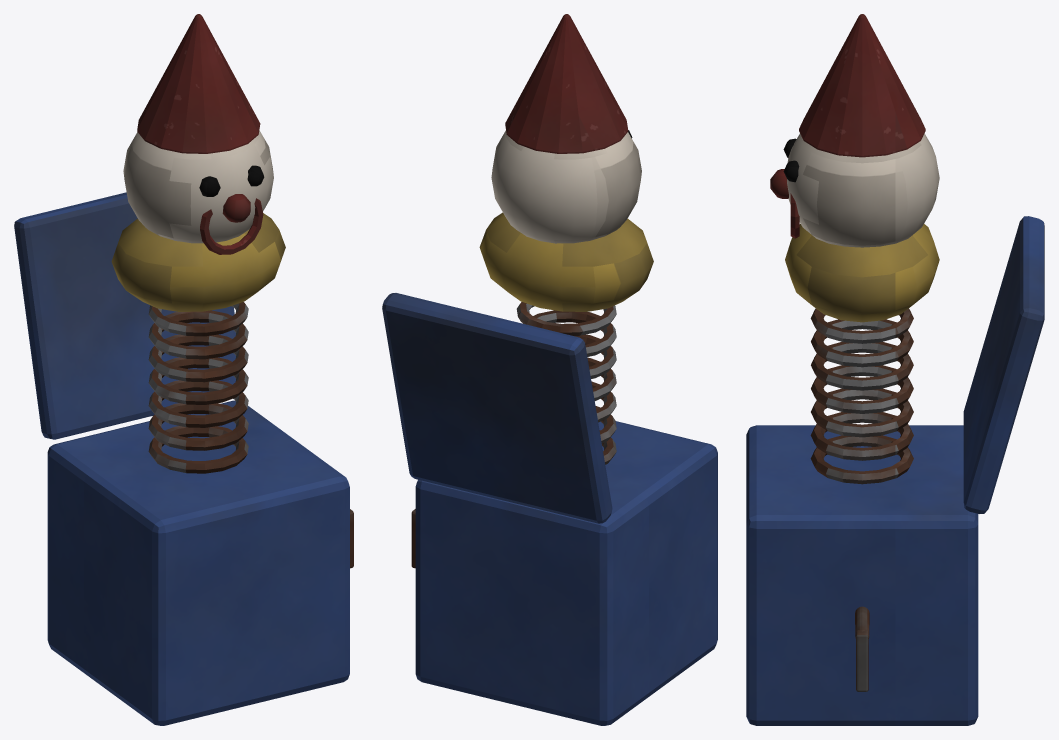
Rendered from T07_jack_in_the_box.glb.
The picture shows the model from 3 angles, left to right: view 1: azimuth 30°, elevation 25°; view 2: azimuth 150°, elevation 25°; view 3: azimuth 270°, elevation 25°; orthographic projection. The views are drawn at different scales.
Visible parts, largest first — view 1: T07_jack_in_the_box; view 2: T07_jack_in_the_box; view 3: T07_jack_in_the_box.
Boxes of the visible parts, x1,y1,x2,y2 form: T07_jack_in_the_box: (14,14,353,725); T07_jack_in_the_box: (382,14,717,725); T07_jack_in_the_box: (746,14,1044,725).
Size of the model in its own units: 0.1614 by 0.4 by 0.1624.
6 materials, 6 textured.
